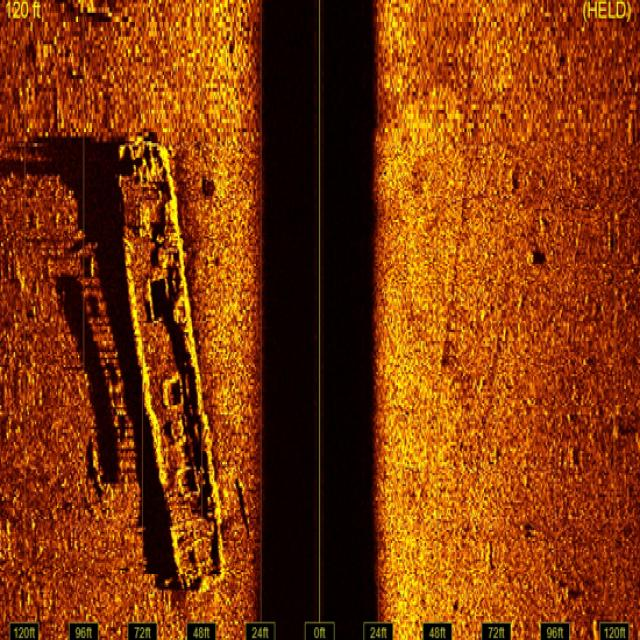ship: (112, 136, 227, 588)
